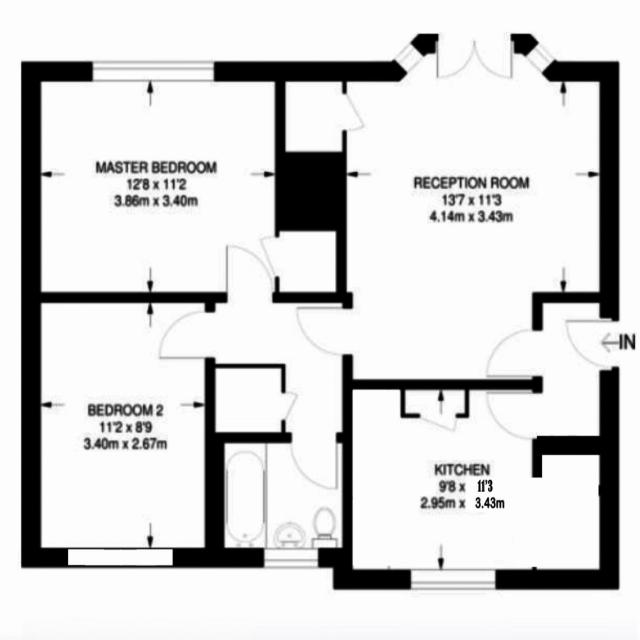DOOR: (295, 303, 353, 360), (485, 326, 543, 381), (158, 308, 216, 362), (484, 389, 543, 442), (563, 317, 619, 371), (224, 243, 274, 303), (289, 432, 338, 491)
DOUBLE DOOR: (436, 32, 513, 82)
ROOM: (274, 31, 620, 390), (20, 60, 348, 305), (342, 378, 620, 592), (21, 291, 226, 569)
WINDOW: (90, 59, 217, 83), (66, 546, 175, 569), (409, 567, 497, 591), (262, 546, 320, 570), (391, 39, 426, 77), (524, 40, 558, 77)
